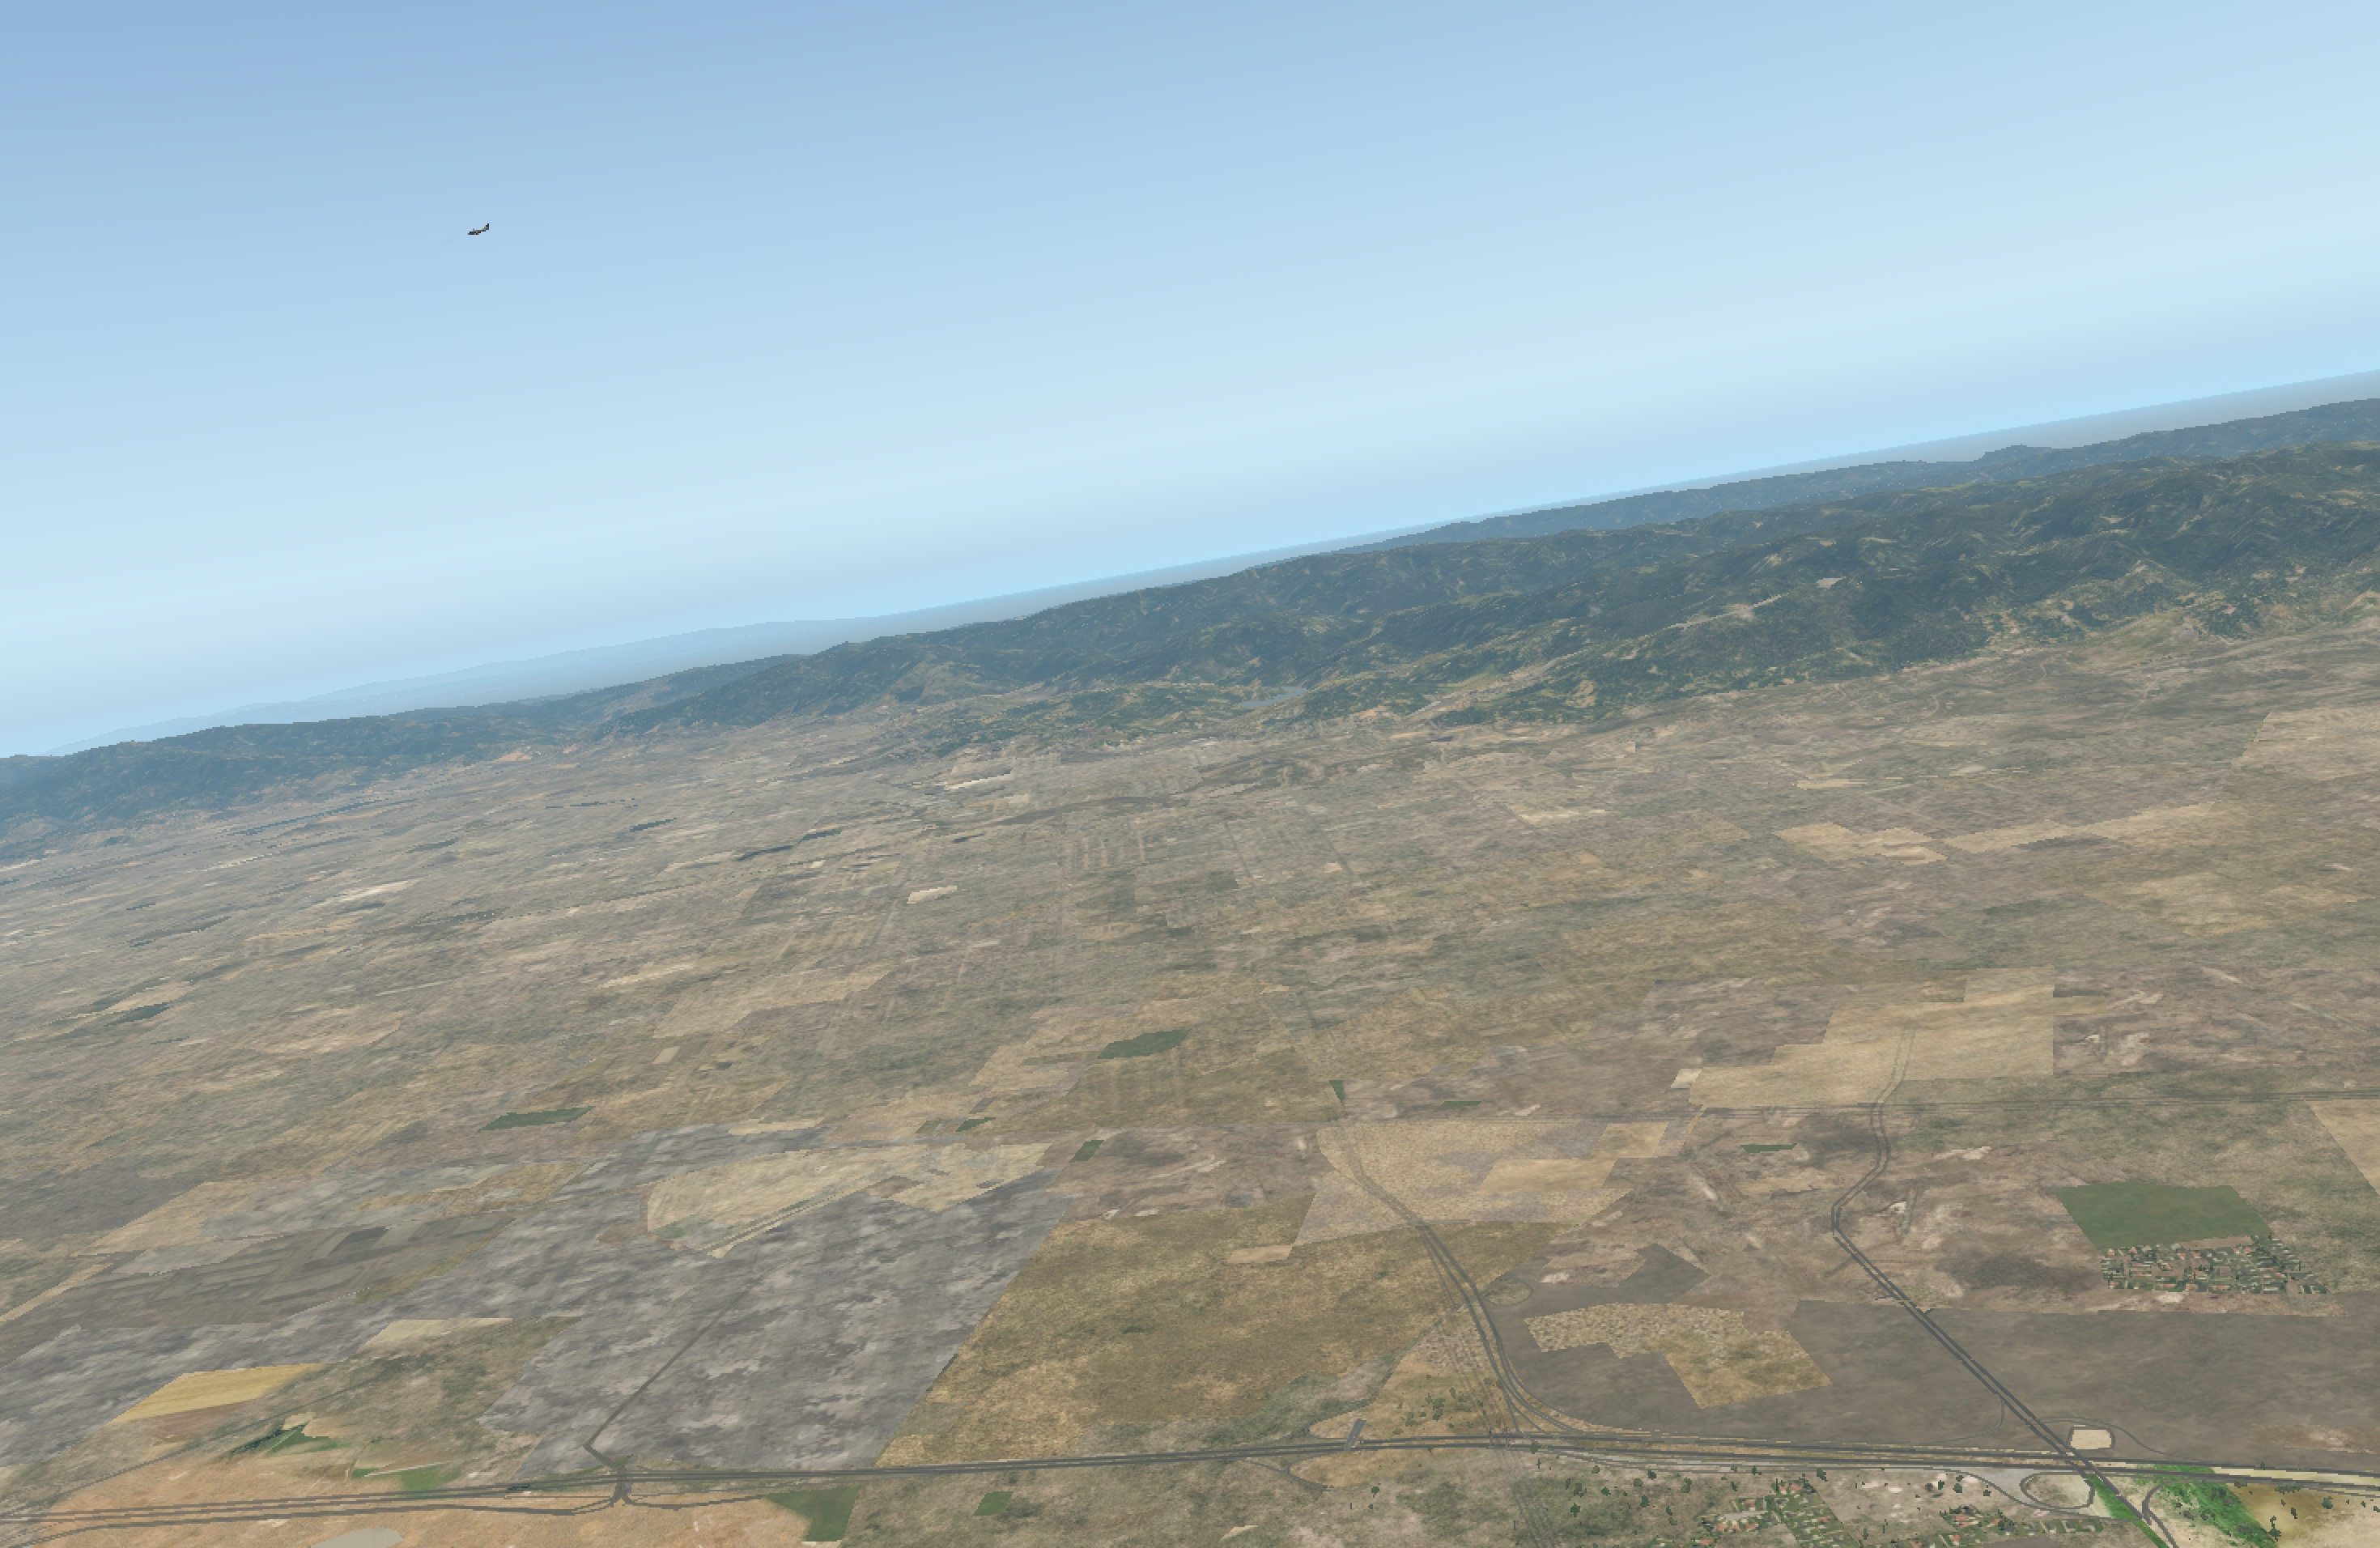aircraft: (460, 227, 491, 239)
